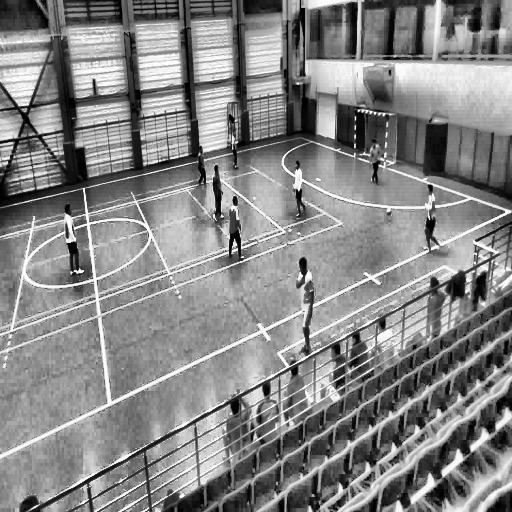ball: (386, 206, 393, 218)
player: (296, 256, 315, 355), (63, 202, 85, 277), (228, 195, 242, 261), (294, 160, 306, 219), (212, 164, 224, 222), (368, 138, 382, 187), (229, 128, 241, 172), (197, 144, 207, 187)
